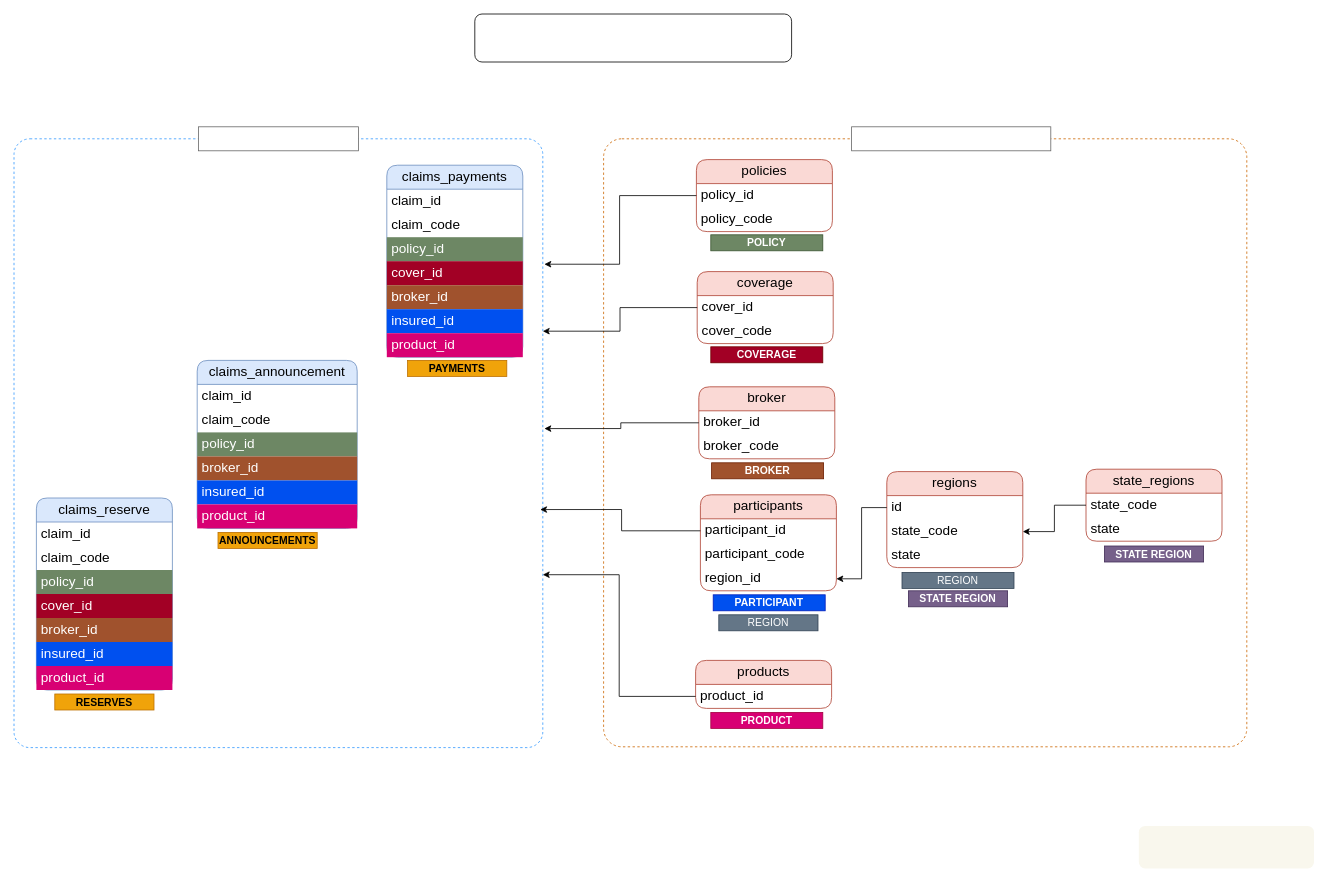
Some shapes in this 1328 by 882 pixel diagram are drawn without their labels. Each missing label, with the centre of its shape:
"Conformed Dimensions" belongs at (x=951, y=138).
"DATA MODEL" belongs at (x=633, y=37).
"Designed By: ABUBAKAR ABDULLAHI" belongs at (x=1226, y=847).
"Facts" belongs at (x=278, y=138).
